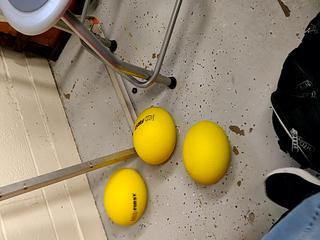power_cell: (99, 167, 150, 231), (130, 104, 180, 168), (181, 121, 231, 185)
